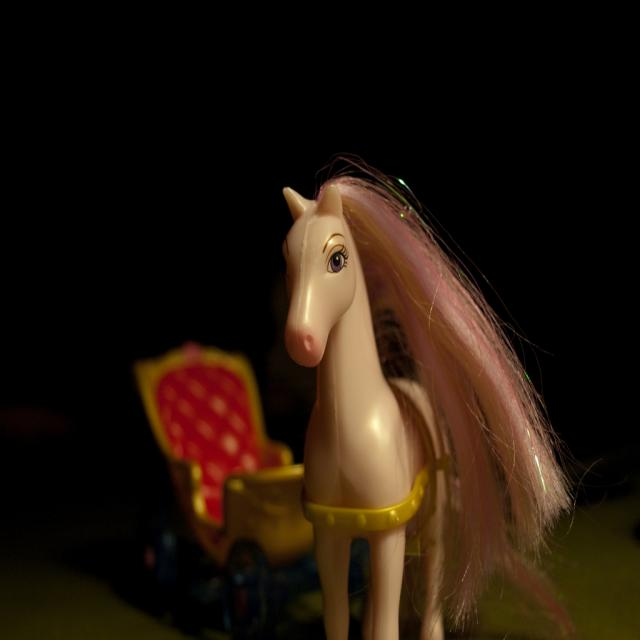Horse: (280, 156, 577, 639)
